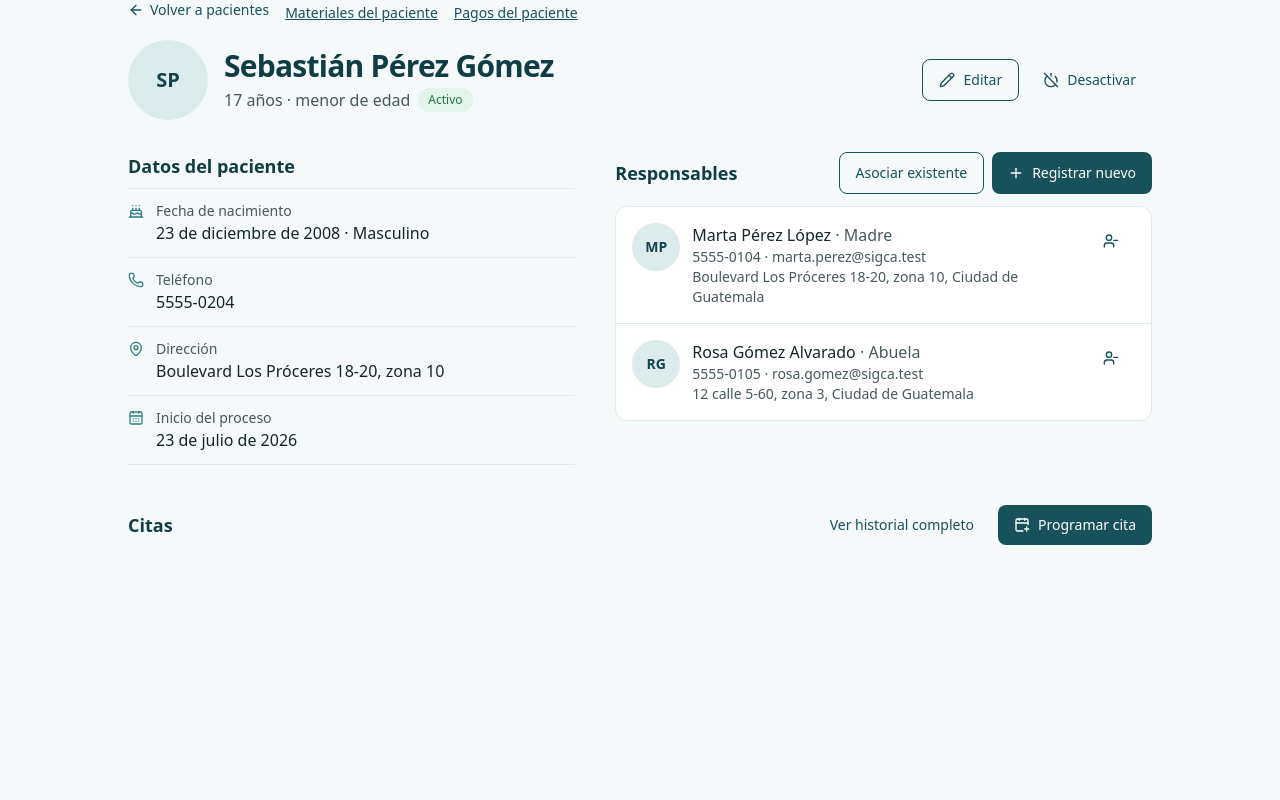
Test: Ficha del paciente › quitar a uno de varios responsables no genera la advertencia fuerte
The width and height of the screenshot is (1280, 800).
Click the button named "Quitar a Rosa Gómez Alvarado como responsable" at (1111, 358), box [1087,340,1135,376]
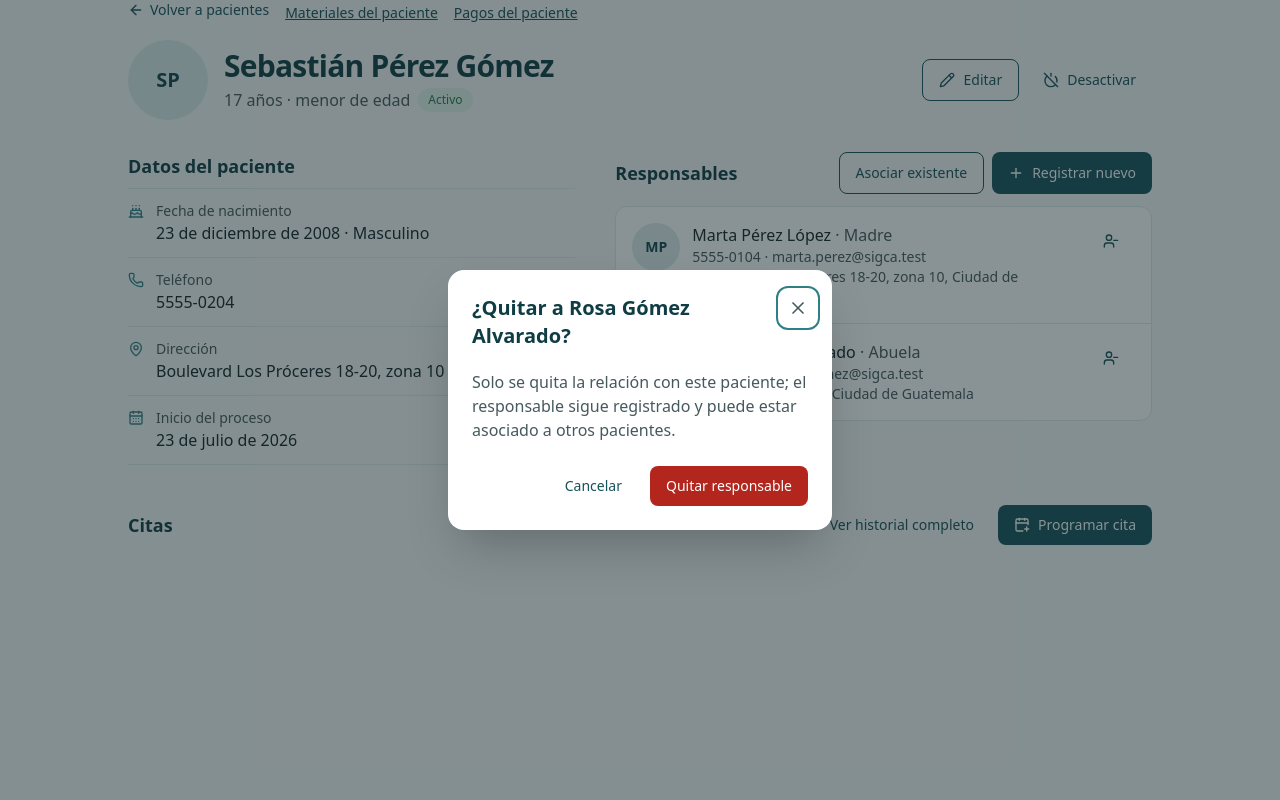
Now the text "el responsable sigue registrado y puede estar asociado a otros pacientes" is shown, box [472,371,806,441]
Click the button "Cancelar" at (593, 486), box [549,466,638,506]
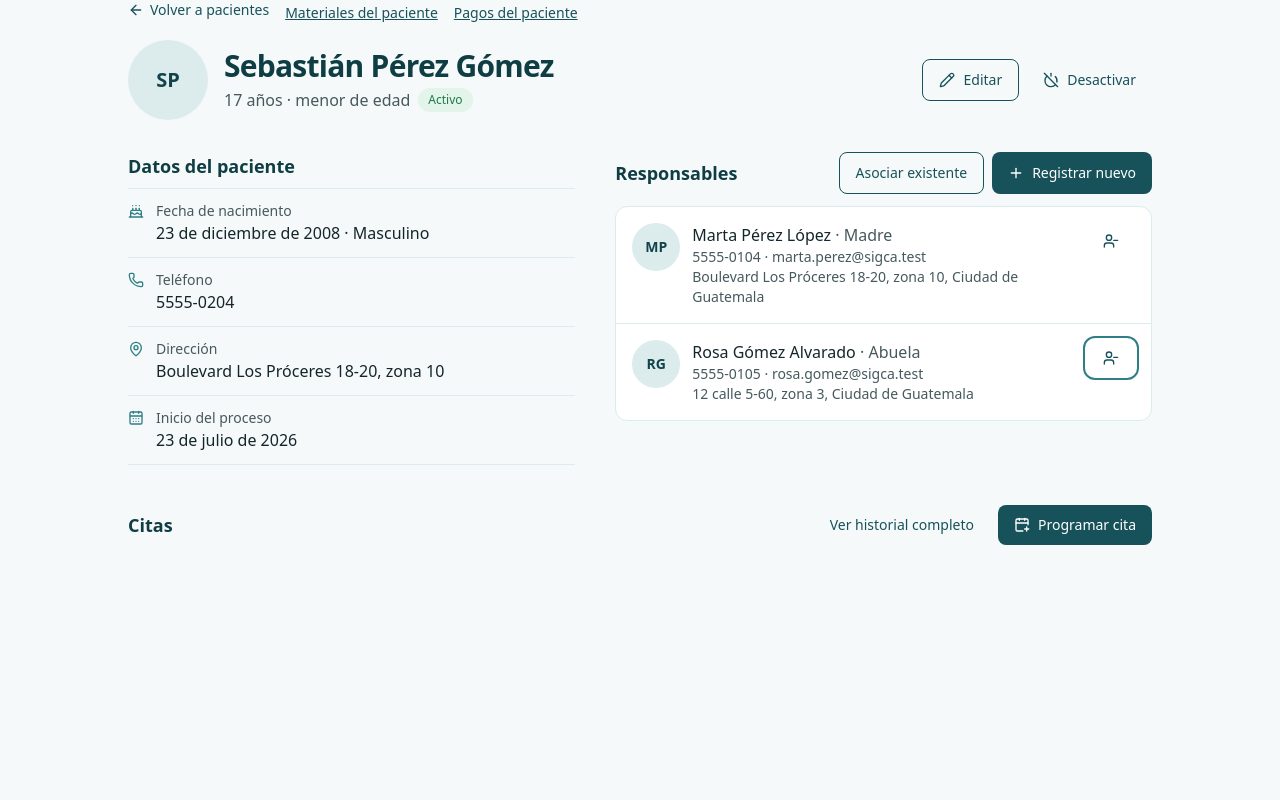
Expected: the text "Rosa Gómez Alvarado · Abuela" is shown, [692,341,921,363]
Now the dialog is gone
